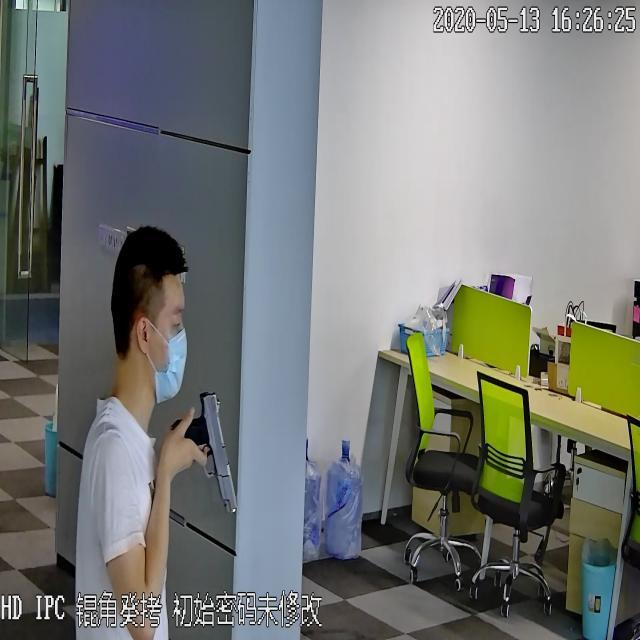gun: (172, 385, 242, 520)
